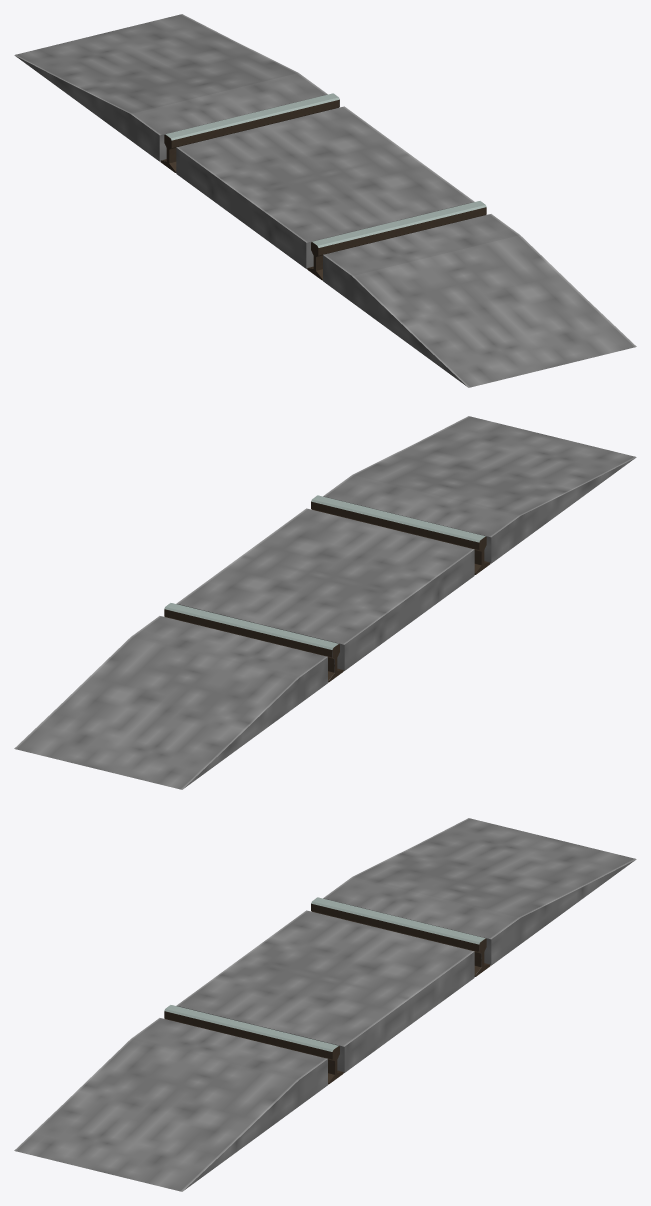
File: spsf_tramtracks.obj
3 renders of one model, top to bottom at view 1: azimuth 30°, elevation 25°; view 2: azimuth 150°, elevation 25°; view 3: azimuth 330°, elevation 25°, orthographic.
Parts seen in each view (by area): view 1: RAIL_BASE, RAIL_RIGHT, RAIL_LEFT; view 2: RAIL_BASE, RAIL_LEFT, RAIL_RIGHT; view 3: RAIL_BASE, RAIL_RIGHT, RAIL_LEFT.
Boxes of the visible parts, x1,y1,x2,y2 form: RAIL_BASE: (14, 14, 636, 387); RAIL_RIGHT: (160, 93, 339, 172); RAIL_LEFT: (307, 201, 486, 280); RAIL_BASE: (14, 416, 636, 789); RAIL_LEFT: (311, 495, 490, 574); RAIL_RIGHT: (164, 603, 343, 682); RAIL_BASE: (14, 818, 636, 1191); RAIL_RIGHT: (311, 897, 490, 976); RAIL_LEFT: (164, 1005, 343, 1084).
Size of the model in its own units: 1 by 0.1783 by 4.68.
1 material, 1 textured.
